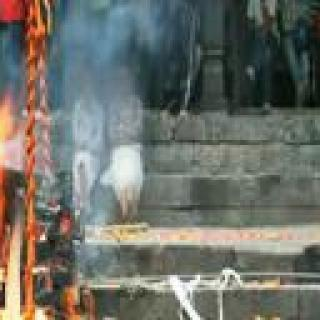fire: (0, 120, 27, 320)
